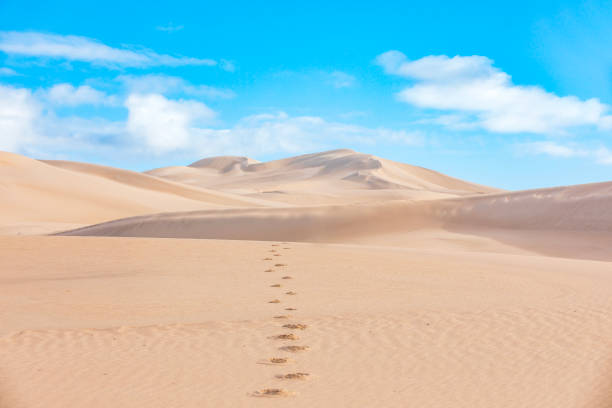human_foot_print: (251, 386, 294, 397), (252, 388, 293, 396), (276, 372, 309, 379), (260, 357, 291, 364), (279, 345, 309, 352), (270, 333, 298, 340), (282, 323, 307, 329), (274, 315, 290, 318), (268, 299, 280, 303), (284, 307, 296, 310), (274, 263, 286, 266), (270, 284, 281, 287), (285, 291, 296, 294), (282, 276, 292, 279), (263, 257, 272, 260), (264, 268, 273, 271), (268, 249, 276, 252), (282, 247, 290, 249), (271, 244, 279, 246), (273, 254, 280, 255)
